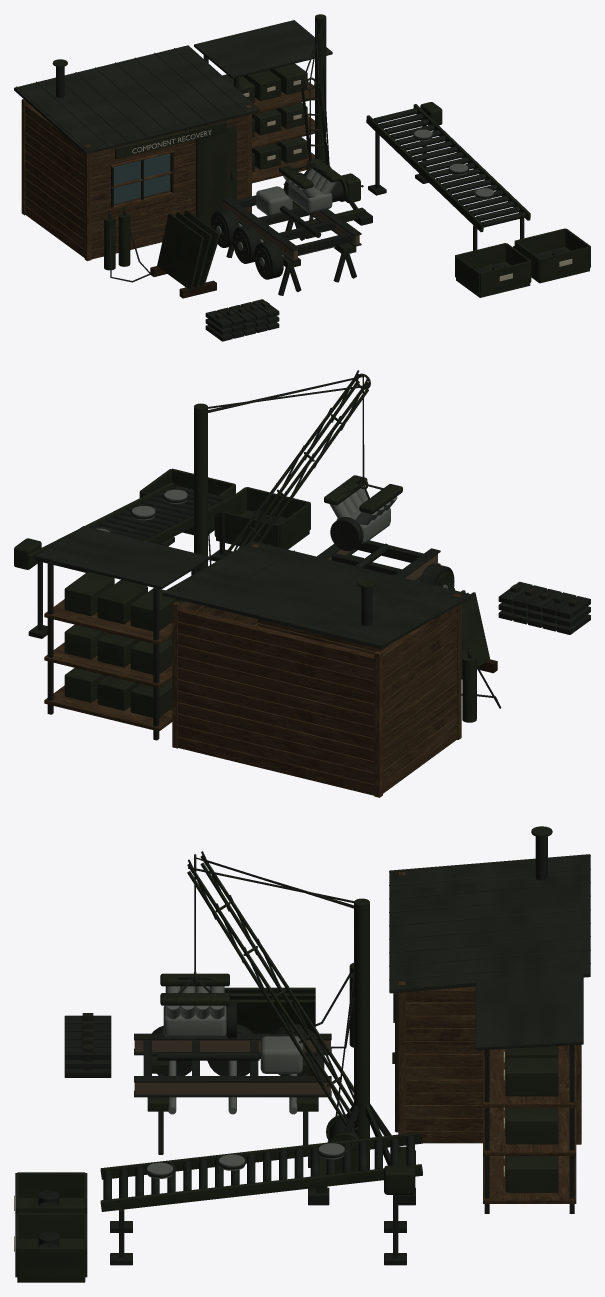
File: disassemble.glb
3 renders of one model, top to bottom at view 1: azimuth 30°, elevation 25°; view 2: azimuth 150°, elevation 25°; view 3: azimuth 270°, elevation 25°, orthographic. The views are drawn at different scales.
Visible parts, largest first — view 1: Salvage Weathered timber; view 2: Salvage Weathered timber; view 3: Salvage Weathered timber.
Part boxes in pixels (box(x1,y1,x2,y2)): Salvage Weathered timber: box(14, 14, 590, 341); Salvage Weathered timber: box(14, 370, 590, 797); Salvage Weathered timber: box(14, 826, 590, 1282).
Bounding box in the file's own units: 2 × 1.03 × 1.91.
Materials: 13 (7 with a texture image).
